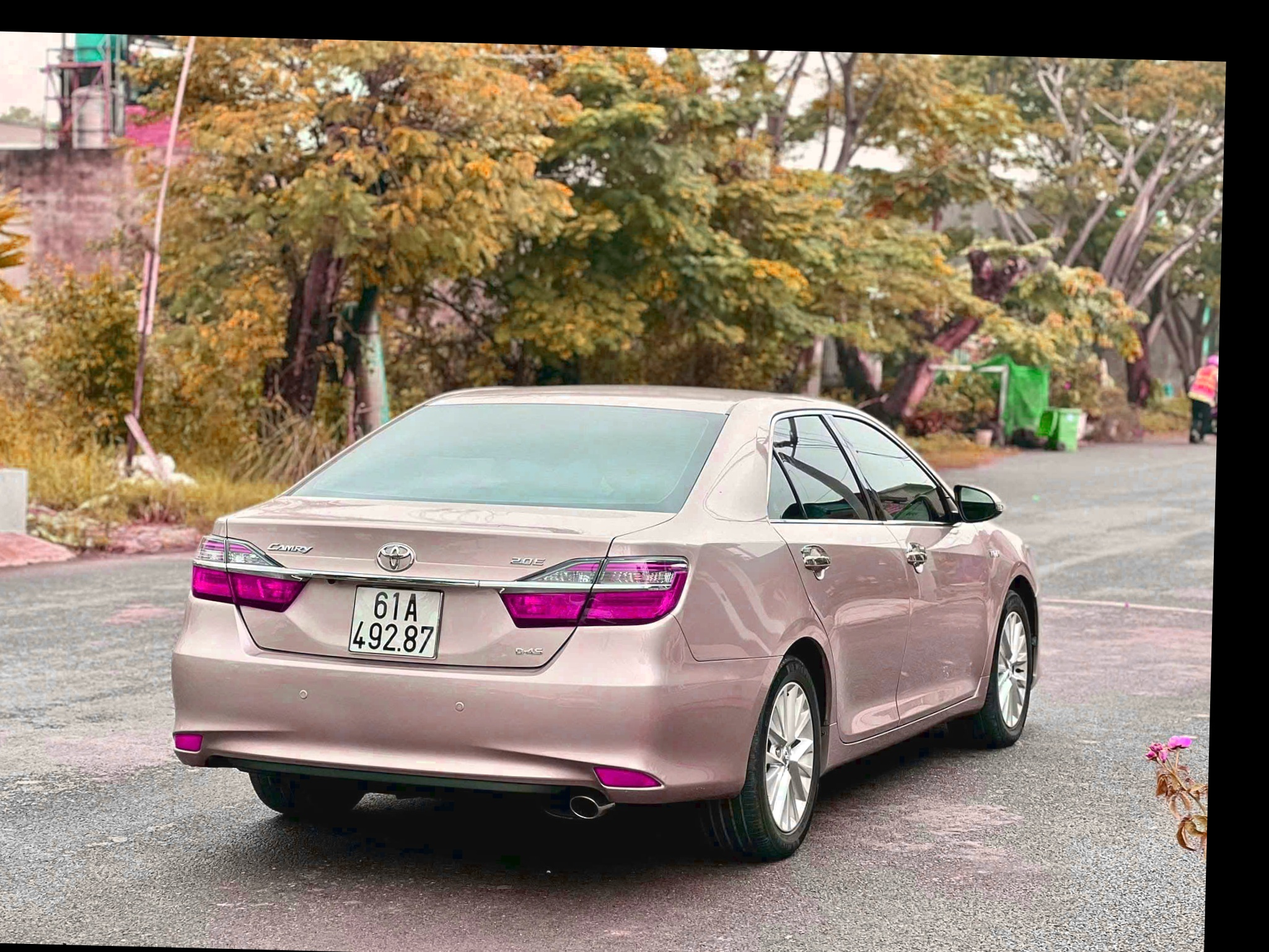Bien-so: (386, 604, 483, 684)
